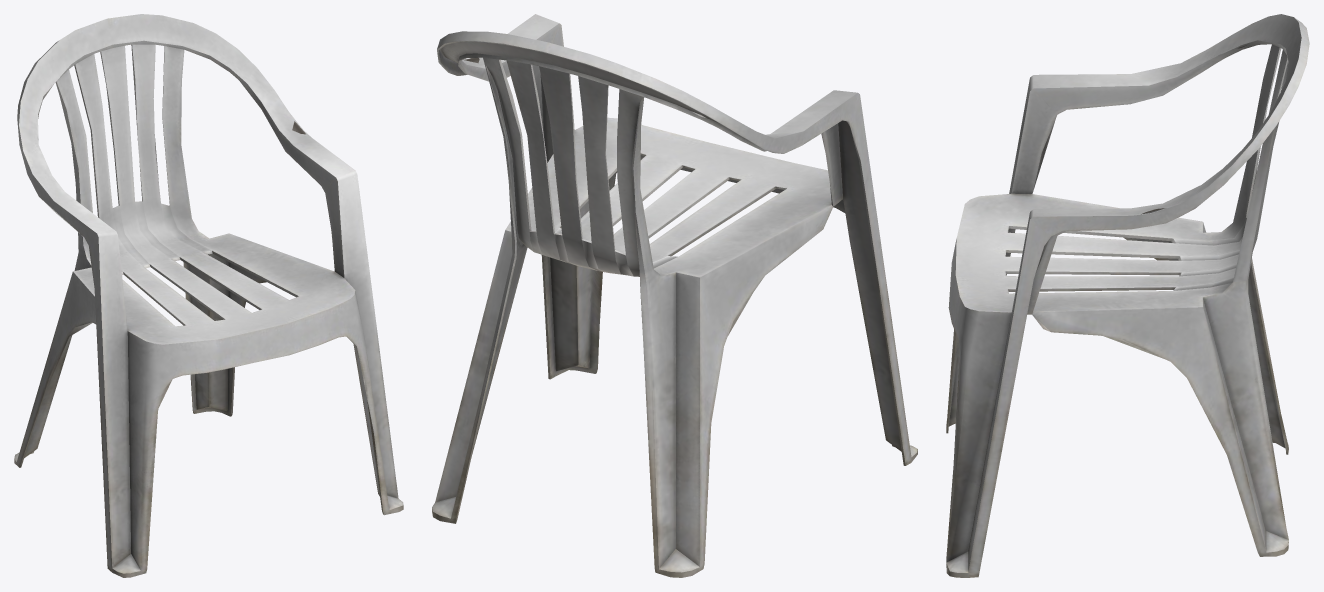
File: chair.glb
3 views of the same model, side by side, from view 1: azimuth 30°, elevation 25°; view 2: azimuth 150°, elevation 25°; view 3: azimuth 270°, elevation 25° (orthographic). The views are drawn at different scales.
Size of the model in its own units: 0.6419 by 0.8798 by 0.6276.
1 material, 1 textured.
